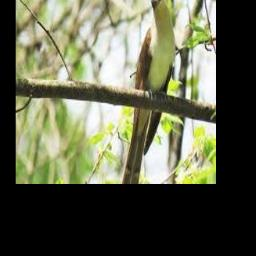Cuckoo: (121, 0, 175, 184)
